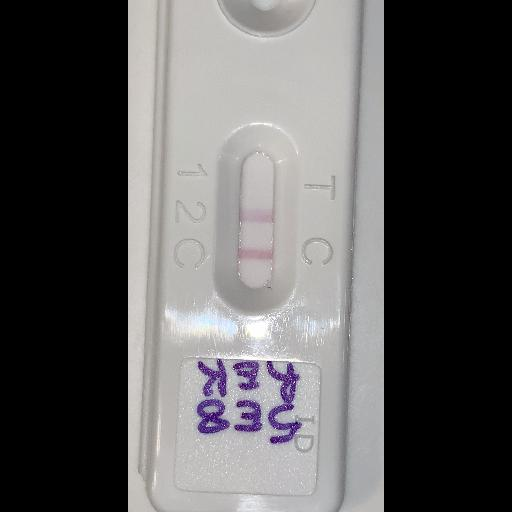Pos: (147, 0, 365, 512)
